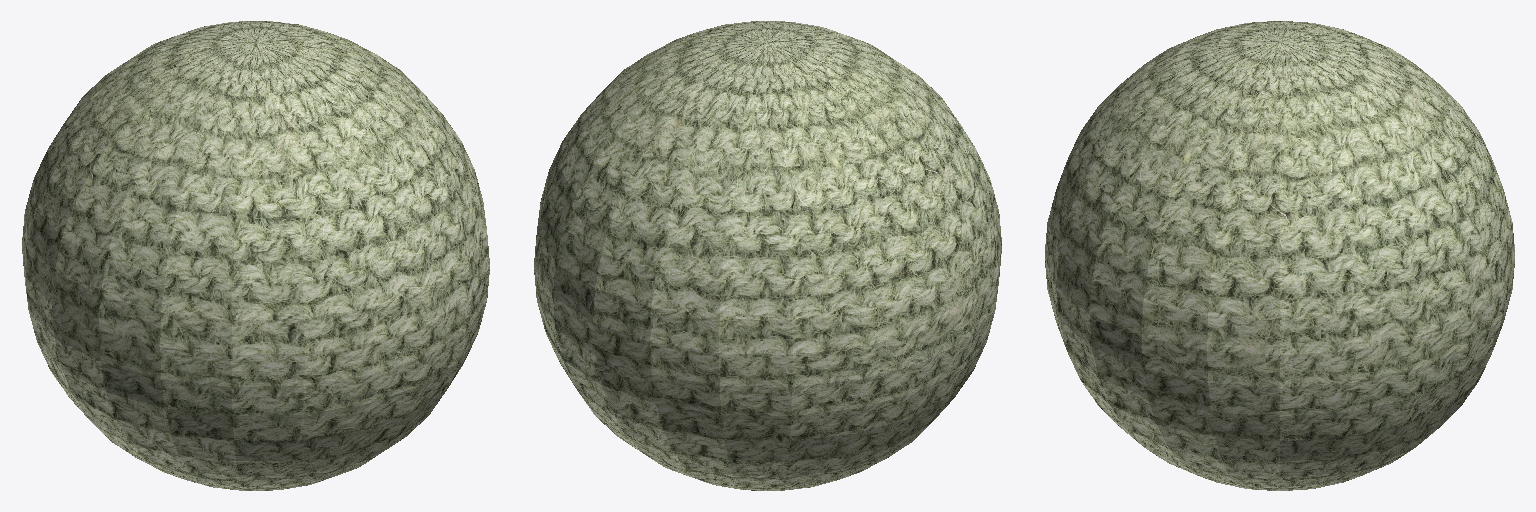
The picture shows the model from 3 angles: view 1: azimuth 30°, elevation 25°; view 2: azimuth 150°, elevation 25°; view 3: azimuth 270°, elevation 25°; orthographic projection.
Parts seen in each view (by area): view 1: pSphere1; view 2: pSphere1; view 3: pSphere1.
Part boxes in pixels (x1,y1,x2,y2): pSphere1: (22,21,489,490); pSphere1: (534,21,1001,490); pSphere1: (1045,21,1514,490).
Size of the model in its own units: 2 by 2 by 2.
1 materials, 1 textured.